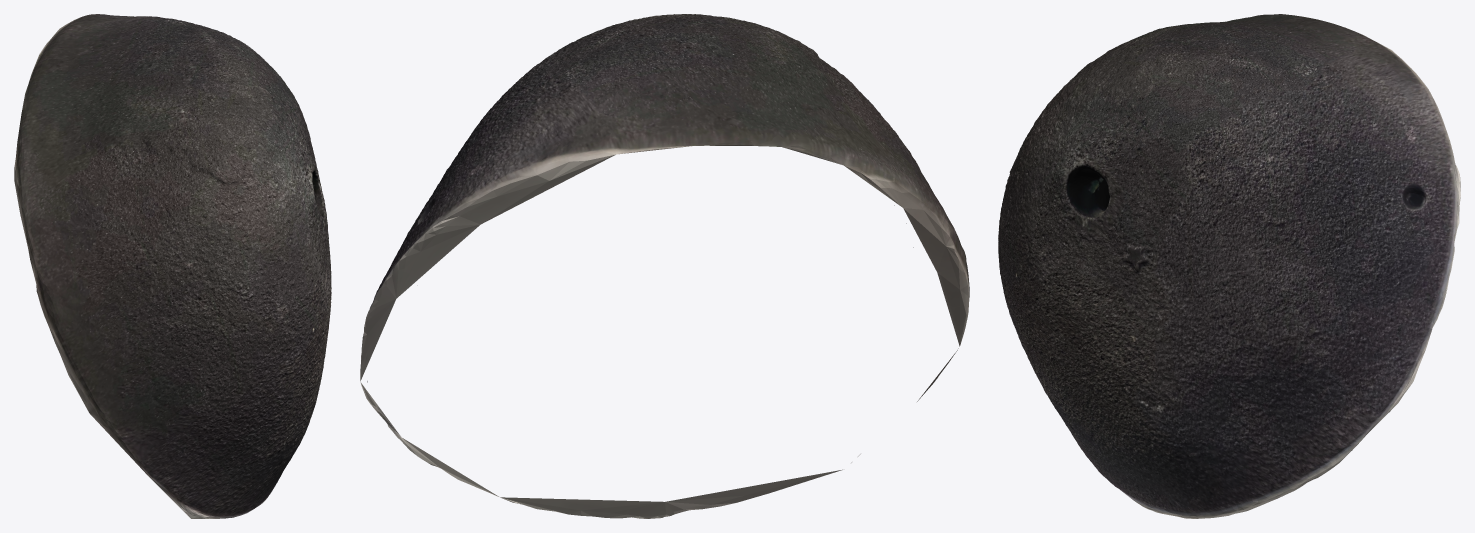
Rendered from Teknik_FatSlopers_3.glb.
The picture shows the model from 3 angles, left to right: view 1: azimuth 30°, elevation 25°; view 2: azimuth 150°, elevation 25°; view 3: azimuth 270°, elevation 25°; orthographic projection. The views are drawn at different scales.
Bounding box in the file's own units: 0.7646 × 0.9034 × 0.8486.
Materials: 1 (1 with a texture image).
